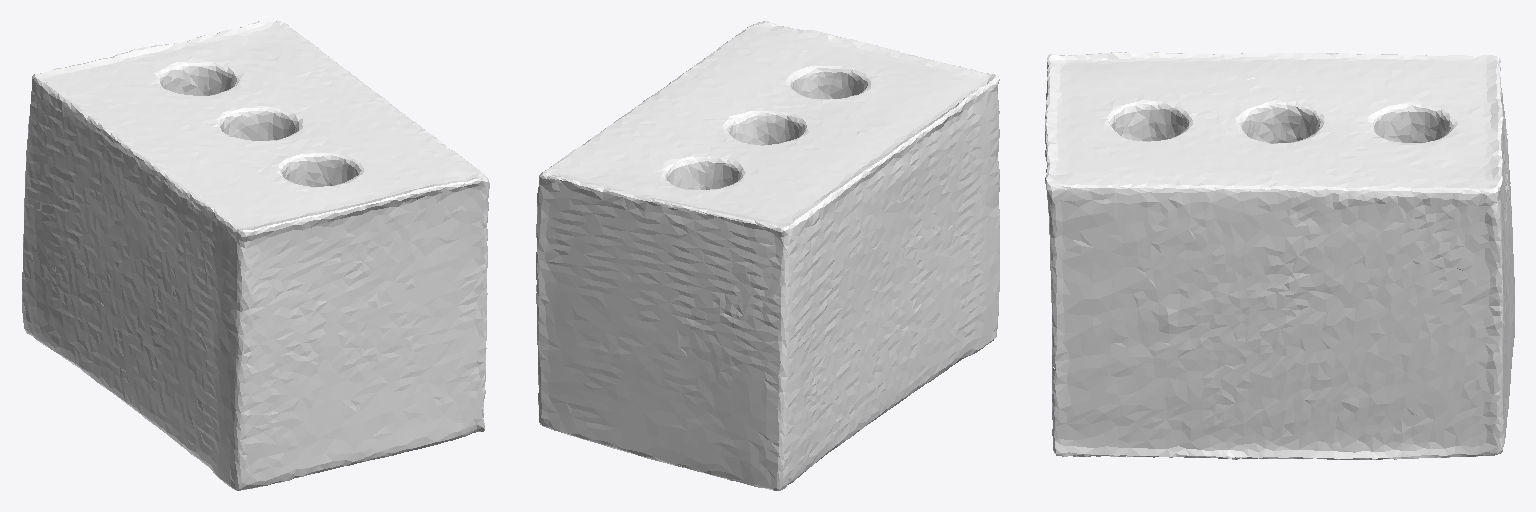
The robot description file, URDF, robot "061_foam_brick":
<?xml version="1.0" ?>
<robot name="061_foam_brick">
    <link name="baseLink">
        <contact>
        <friction_anchor/>
        <lateral_friction value="1.5"/>
        <rolling_friction value="0.1"/>
        <spinning_friction value="0.1"/>
        <contact_cfm value="1e-5"/>
        <contact_erp value="0.8"/>
        </contact>
        <visual>
            <origin rpy="0 0 0" xyz="0 0 0"/>
            <geometry>
                <mesh filename="assets/objects/061_foam_brick/meshes/061_foam_brick_textured.obj" scale="1 1 1"/>
            </geometry>
            <material name="white">
                <color rgba="1 1 1 1"/>
            </material>
        </visual>
        <collision>
            <origin rpy="0 0 0" xyz="0 0 0"/>
            <geometry>
                <mesh filename="assets/objects/061_foam_brick/meshes/061_foam_brick_textured.obj" scale="1 1 1"/>
            </geometry>
        </collision>
        <inertial>
            <origin rpy="0 0 0" xyz="0 0 0"/>
            <mass value="1.0"/>
            <inertia ixx="0.1" ixy="0" ixz="0" iyy="0.1" iyz="0" izz="0.1"/>
        </inertial>
    </link>
</robot>

--- What the picture shows (computed from the rendered views, not written in the file) ---
Views: 3 orthographic renders of the robot side by side, from view 1: azimuth 30°, elevation 25°; view 2: azimuth 150°, elevation 25°; view 3: azimuth 270°, elevation 25°.
Model 061_foam_brick with 1 links and 0 joints (none), rooted at baseLink, posed every joint at zero.
Links seen in each view (by area): view 1: baseLink; view 2: baseLink; view 3: baseLink.
Link boxes in pixels (x1,y1,x2,y2): baseLink: [22, 21, 489, 490]; baseLink: [536, 21, 999, 490]; baseLink: [1045, 52, 1514, 459].
Size in the robot's own frame: 0.0526 by 0.0779 by 0.0512 metres.
Meshes: 1 distinct files referenced, 1 mesh visuals loaded (1 OBJ).
